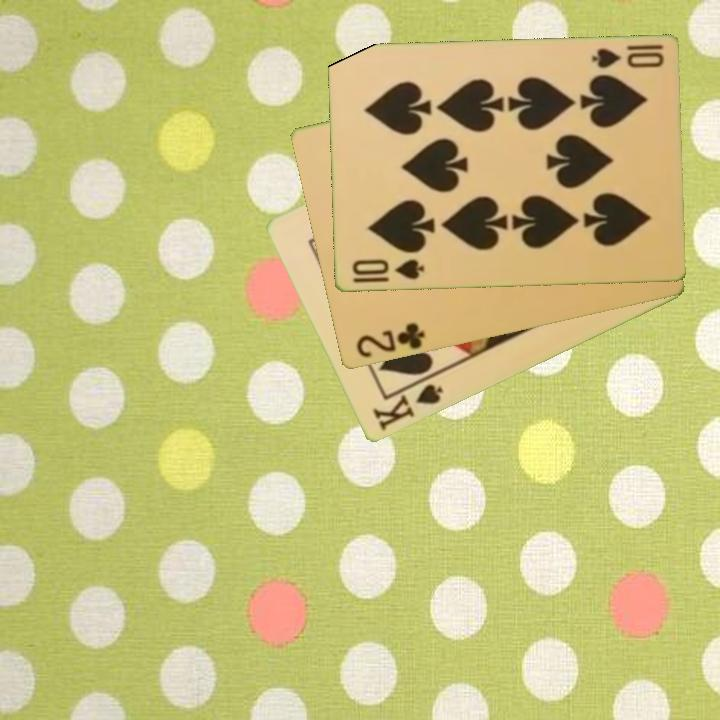10s: (588, 41, 666, 72), (349, 256, 427, 283)
2c: (352, 319, 428, 361)
Ks: (369, 372, 446, 434)
